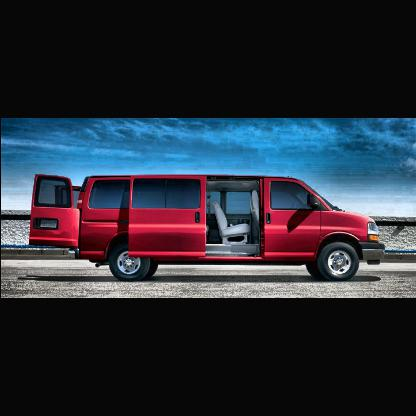Chevrolet Express Van 2007: (30, 174, 387, 283)
